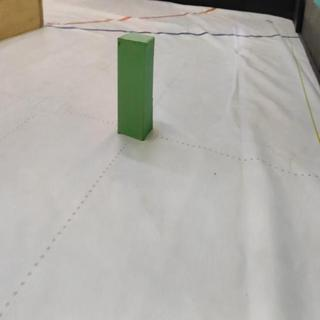greenbox: (116, 31, 157, 142)
